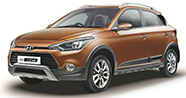car: (6, 2, 179, 94)
